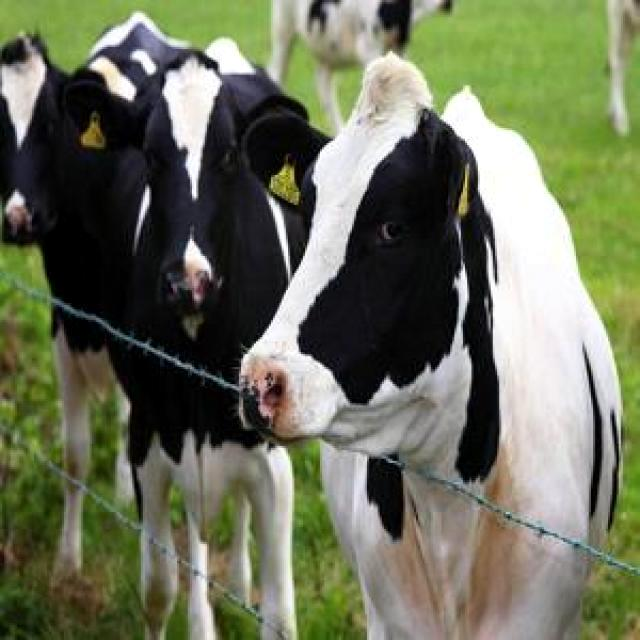COW: (244, 54, 621, 640), (66, 41, 304, 640), (0, 36, 101, 309), (54, 310, 112, 481), (88, 12, 186, 99), (55, 481, 82, 577), (280, 202, 306, 267)
